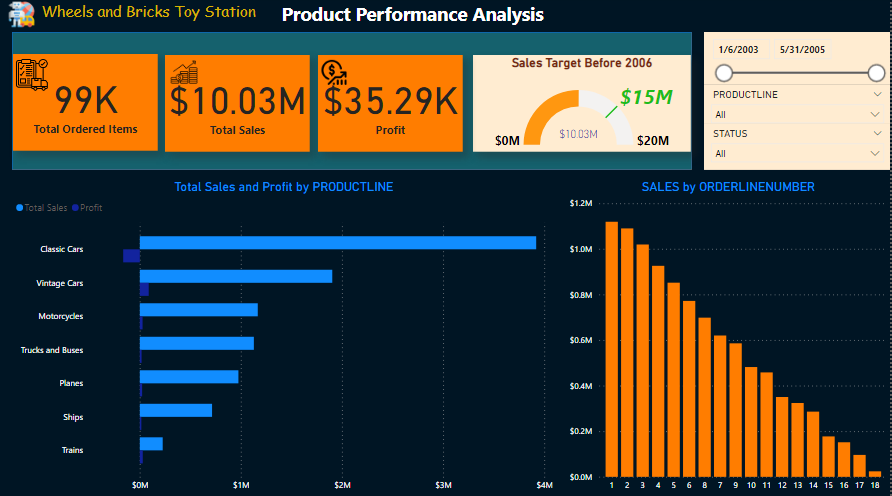

Layout of this report page (visuals, bound fields, positions):
{"tool":"powerbi","page":{"name":"Page 6","canvas":[1280,720],"ordinal":5},"visuals":[{"type":"image","box":[0,0,61.8,50.3],"z":0},{"type":"textbox","box":[0,0,426.8,50.3],"z":1000},{"type":"shape","box":[17.2,50.3,977.2,198.3],"z":2000},{"type":"slicer","fields":{"Values":["sales_data_sample.PRODUCTLINE"]},"box":[1011.7,126.5,268.7,56],"z":7000},{"type":"slicer","fields":{"Values":["sales_data_sample.STATUS"]},"box":[1011.7,182.5,268.7,66.1],"z":8000},{"type":"slicer","fields":{"Values":["sales_data_sample.Date"]},"box":[1011.7,50.3,268.7,76.2],"z":9000},{"type":"clusteredBarChart","fields":{"Category":["sales_data_sample.PRODUCTLINE"],"Y":["sales_data_sample.Total Sales","sales_data_sample.Profit"]},"box":[17.2,261.6,781.8,458.4],"z":10000},{"type":"clusteredColumnChart","fields":{"Category":["sales_data_sample.ORDERLINENUMBER"],"Y":["Sum(sales_data_sample.SALES)"]},"box":[813.4,261.6,467.1,458.4],"z":11000},{"type":"textbox","box":[399,0,881,50.3],"z":12000},{"type":"card","fields":{"Values":["sales_data_sample.Total Ordered Items"]},"box":[18.7,81.9,208.4,139.4],"z":12001},{"type":"card","fields":{"Values":["sales_data_sample.Total Sales"]},"box":[237.1,83.4,208.4,139.4],"z":12002},{"type":"gauge","title":"Sales Target Before 2006","fields":{"TargetValue":["sales_data_sample.Goal before 2006"],"MaxValue":["sales_data_sample.Max"],"Y":["Sum(sales_data_sample.SALES)"]},"box":[679.8,83.4,313.3,139.4],"z":12003},{"type":"card","fields":{"Values":["sales_data_sample.Profit"]},"box":[457,83.4,208.4,139.4],"z":12004},{"type":"image","box":[17.2,83.4,57.5,57.5],"z":12005},{"type":"image","box":[240,83.4,48.9,48.9],"z":12006},{"type":"image","box":[457,83.4,46,48.9],"z":12007}]}

Visuals, with their boxes in screenshot pixels (x1, y1, x2, y2), scaled from the page's 1280x720 canvas onto the 892x496 screenshot:
image: pyautogui.locateOnScreen(0, 0, 43, 35)
textbox: pyautogui.locateOnScreen(0, 0, 297, 35)
shape: pyautogui.locateOnScreen(12, 35, 693, 171)
slicer - sales_data_sample.PRODUCTLINE: pyautogui.locateOnScreen(705, 87, 891, 126)
slicer - sales_data_sample.STATUS: pyautogui.locateOnScreen(705, 126, 891, 171)
slicer - sales_data_sample.Date: pyautogui.locateOnScreen(705, 35, 891, 87)
clusteredBarChart - sales_data_sample.PRODUCTLINE x sales_data_sample.Total Sales: pyautogui.locateOnScreen(12, 180, 557, 495)
clusteredColumnChart - sales_data_sample.ORDERLINENUMBER x Sum(sales_data_sample.SALES): pyautogui.locateOnScreen(567, 180, 891, 495)
textbox: pyautogui.locateOnScreen(278, 0, 891, 35)
card - sales_data_sample.Total Ordered Items: pyautogui.locateOnScreen(13, 56, 158, 152)
card - sales_data_sample.Total Sales: pyautogui.locateOnScreen(165, 57, 310, 153)
"Sales Target Before 2006" gauge: pyautogui.locateOnScreen(474, 57, 692, 153)
card - sales_data_sample.Profit: pyautogui.locateOnScreen(318, 57, 464, 153)
image: pyautogui.locateOnScreen(12, 57, 52, 97)
image: pyautogui.locateOnScreen(167, 57, 201, 91)
image: pyautogui.locateOnScreen(318, 57, 351, 91)
